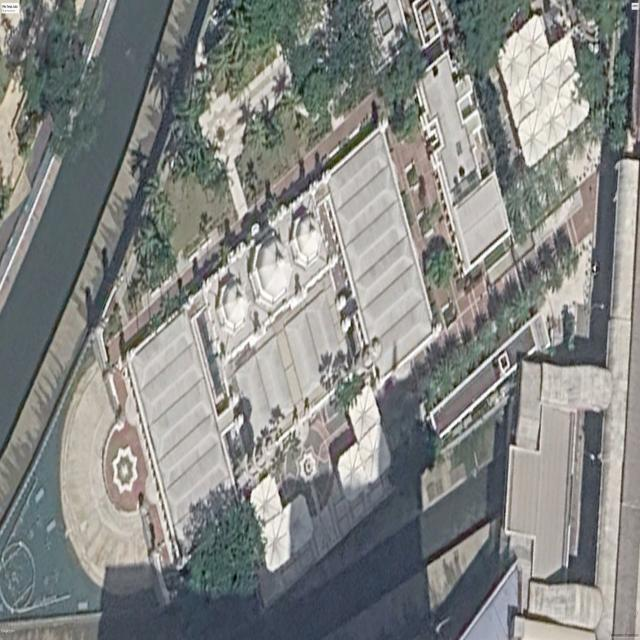mosque: (129, 130, 432, 558)
